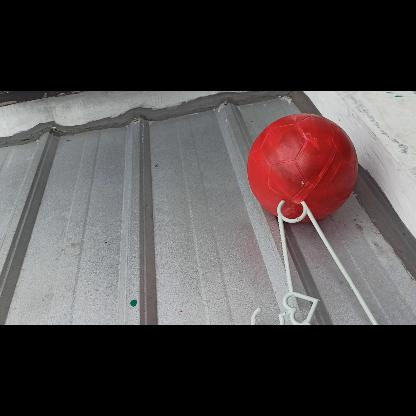red_ball: (246, 111, 356, 221)
